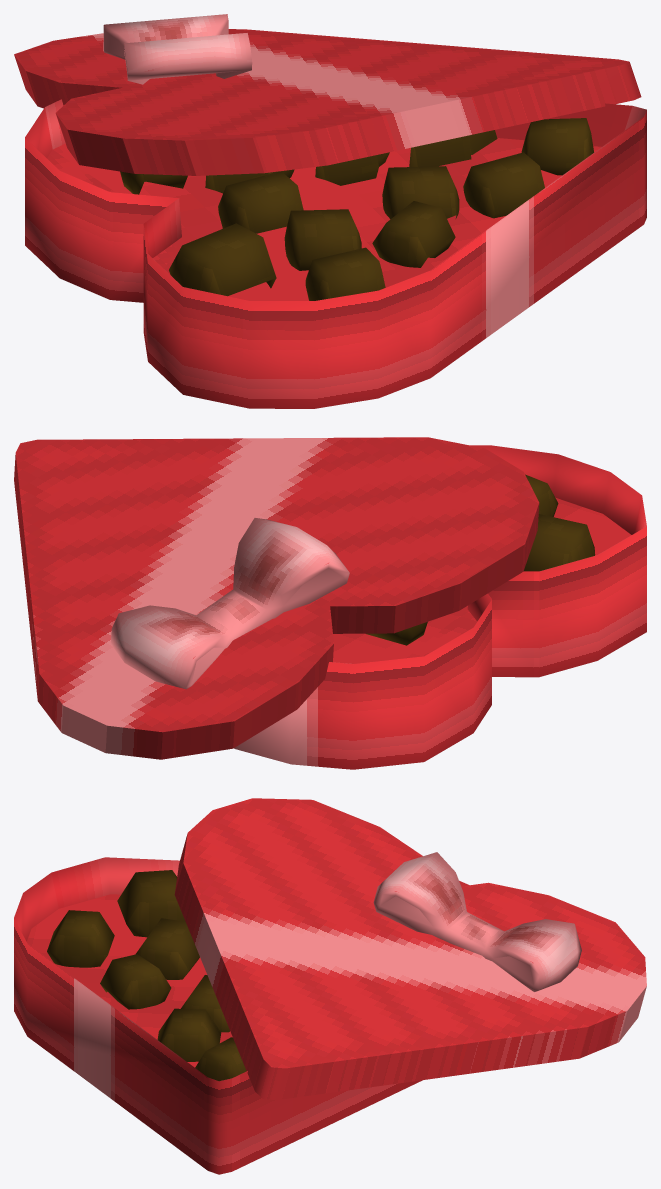
The model's file is Box_HeartChocolate.fbx.
3 views of the same model, one above another, from view 1: azimuth 30°, elevation 25°; view 2: azimuth 150°, elevation 25°; view 3: azimuth 270°, elevation 25° (orthographic). The views are drawn at different scales.
Parts seen in each view (by area): view 1: ChocolateHeartbox; view 2: ChocolateHeartbox; view 3: ChocolateHeartbox.
Part boxes in pixels (box(x1,y1,x2,y2)): ChocolateHeartbox: box(14, 14, 646, 408); ChocolateHeartbox: box(14, 437, 646, 769); ChocolateHeartbox: box(14, 798, 646, 1174).
Bounding box in the file's own units: 63.38 × 21.33 × 72.98.
